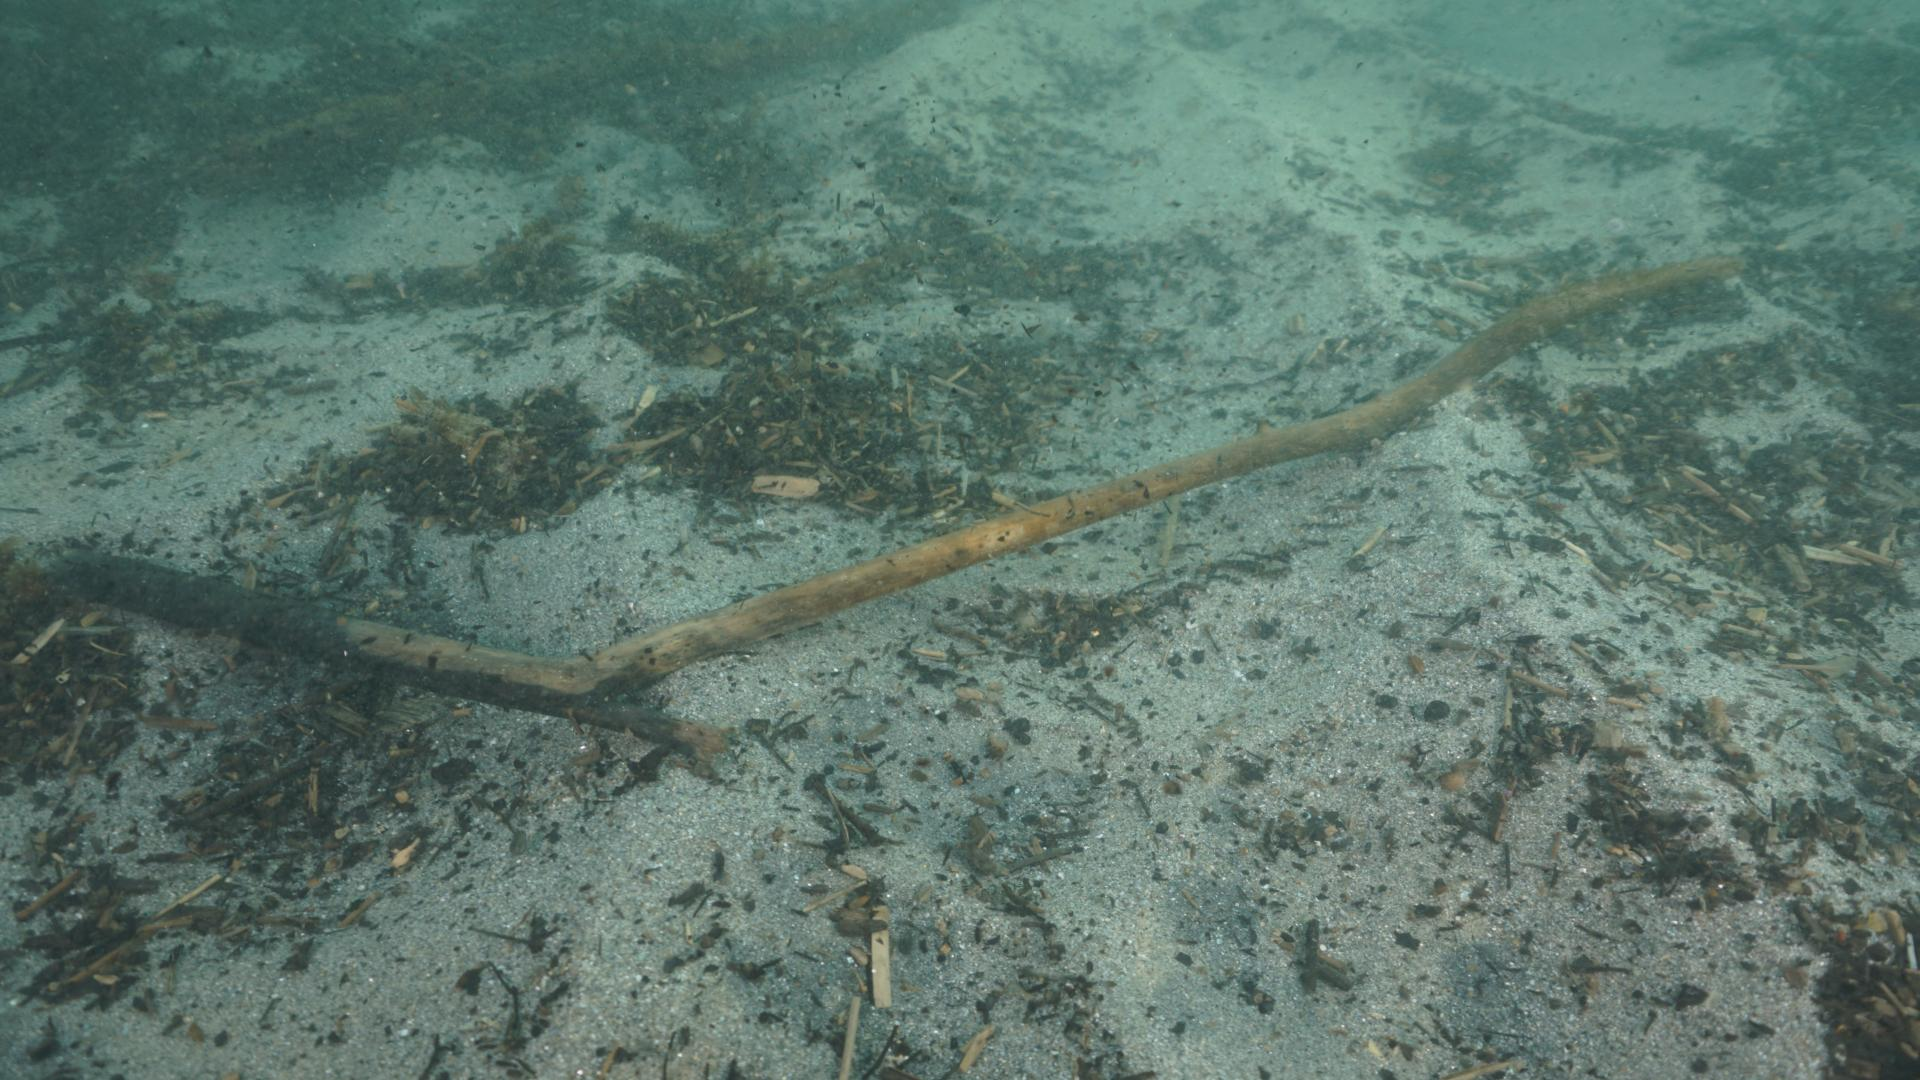wood: (50, 251, 1753, 711)
